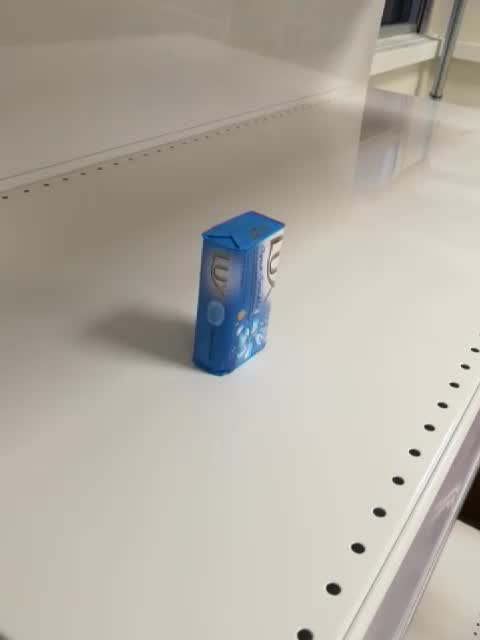soap: (189, 210, 287, 379)
